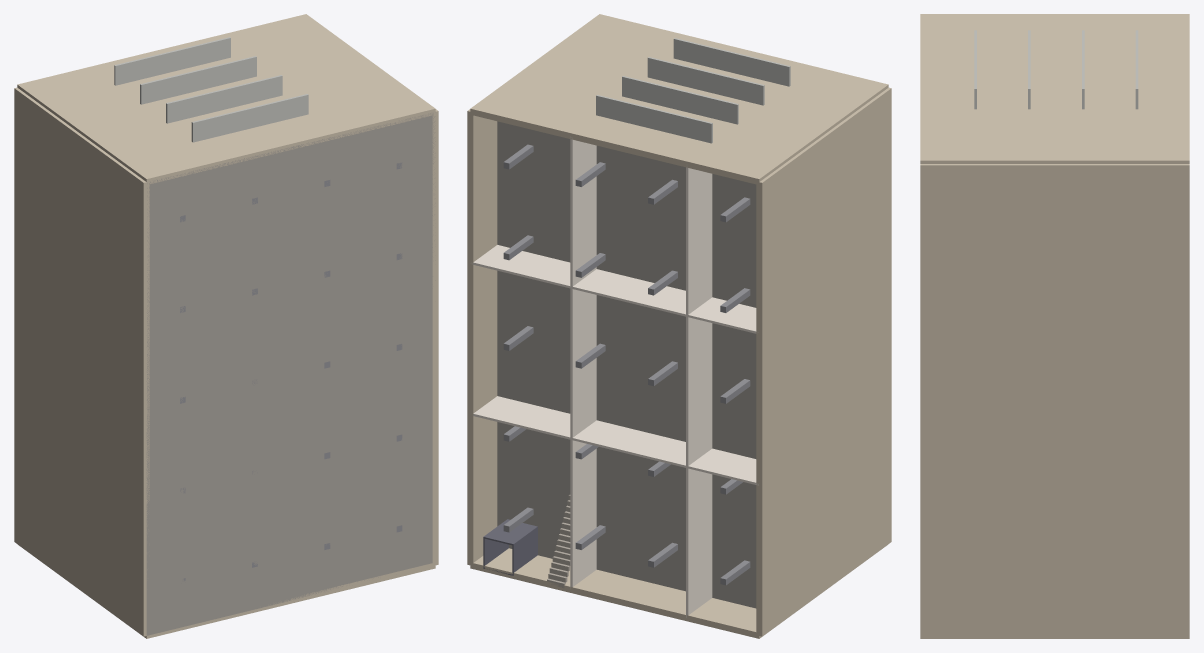
File: almaty_5floor_3d.obj
The picture shows the model from 3 angles, left to right: view 1: azimuth 30°, elevation 25°; view 2: azimuth 150°, elevation 25°; view 3: azimuth 270°, elevation 25°; orthographic projection. The views are drawn at different scales.
Visible parts, largest first — view 1: slab_slab_f4, wall_wall_ext_w_f4, wall_wall_ext_w_f0, wall_wall_ext_w_f2, wall_wall_ext_w_f1, wall_wall_ext_w_f3, wall_wall_ext_n_f4, wall_wall_ext_n_f0, wall_wall_ext_n_f3, wall_wall_ext_n_f2, wall_wall_ext_n_f1, wall_wall_ext_e_f4 (+5 smaller); view 2: slab_slab_f0, wall_wall_ext_w_f0, wall_wall_ext_e_f0, wall_wall_ext_w_f4, wall_wall_ext_w_f2, wall_wall_ext_w_f1, wall_wall_ext_w_f3, wall_wall_int_1_f0, wall_wall_int_2_f0, wall_wall_ext_n_f0, wall_wall_ext_s_f0, wall_wall_int_3_f0 (+11 smaller); view 3: wall_wall_ext_e_f0, wall_wall_ext_e_f4, wall_wall_ext_e_f1, wall_wall_ext_e_f2, wall_wall_ext_e_f3, wall_wall_ext_n_f4, wall_wall_ext_n_f0, wall_wall_ext_n_f1, wall_wall_ext_n_f2, wall_wall_ext_n_f3.
Part boxes in pixels (x1,y1,x2,y2): slab_slab_f4: (146, 113, 435, 635); wall_wall_ext_w_f4: (118, 163, 149, 636); wall_wall_ext_w_f0: (14, 87, 42, 560); wall_wall_ext_w_f2: (66, 125, 94, 598); wall_wall_ext_w_f1: (40, 106, 68, 579); wall_wall_ext_w_f3: (92, 144, 120, 617); wall_wall_ext_n_f4: (120, 89, 435, 184); wall_wall_ext_n_f0: (17, 14, 331, 105); wall_wall_ext_n_f3: (95, 71, 409, 162); wall_wall_ext_n_f2: (69, 52, 383, 143); wall_wall_ext_n_f1: (43, 33, 357, 124); wall_wall_ext_e_f4: (432, 109, 438, 565); slab_slab_f0: (497, 121, 756, 608); wall_wall_ext_w_f0: (756, 163, 787, 636); wall_wall_ext_e_f0: (467, 109, 497, 565); wall_wall_ext_w_f4: (863, 87, 891, 560); wall_wall_ext_w_f2: (811, 125, 839, 598); wall_wall_ext_w_f1: (785, 144, 813, 617); wall_wall_ext_w_f3: (837, 106, 865, 579); wall_wall_int_1_f0: (686, 166, 712, 617); wall_wall_int_2_f0: (570, 136, 596, 588); wall_wall_ext_n_f0: (470, 89, 785, 184); wall_wall_ext_s_f0: (470, 548, 784, 638); wall_wall_int_3_f0: (473, 396, 758, 485); wall_wall_ext_e_f0: (1135, 164, 1189, 637); wall_wall_ext_e_f4: (920, 164, 974, 637); wall_wall_ext_e_f1: (1082, 164, 1135, 637); wall_wall_ext_e_f2: (1028, 164, 1081, 637); wall_wall_ext_e_f3: (974, 164, 1027, 637); wall_wall_ext_n_f4: (920, 14, 974, 163); wall_wall_ext_n_f0: (1135, 14, 1189, 163); wall_wall_ext_n_f1: (1082, 14, 1135, 163); wall_wall_ext_n_f2: (1028, 14, 1081, 163); wall_wall_ext_n_f3: (974, 14, 1027, 163).
Bounding box in the file's own units: 20.4 × 31.7 × 15.5.
